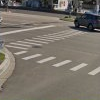crosswalk: (12, 50, 100, 75), (3, 27, 87, 49)
